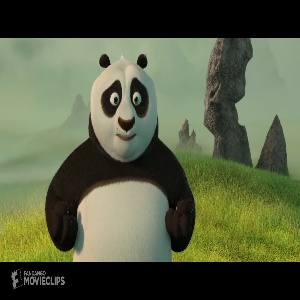po: (45, 49, 197, 262)
